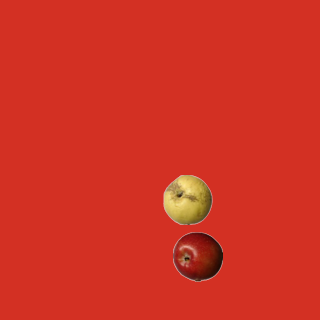Apple Braeburn: (172, 231, 222, 281)
Apple Golden 1: (162, 174, 212, 224)
